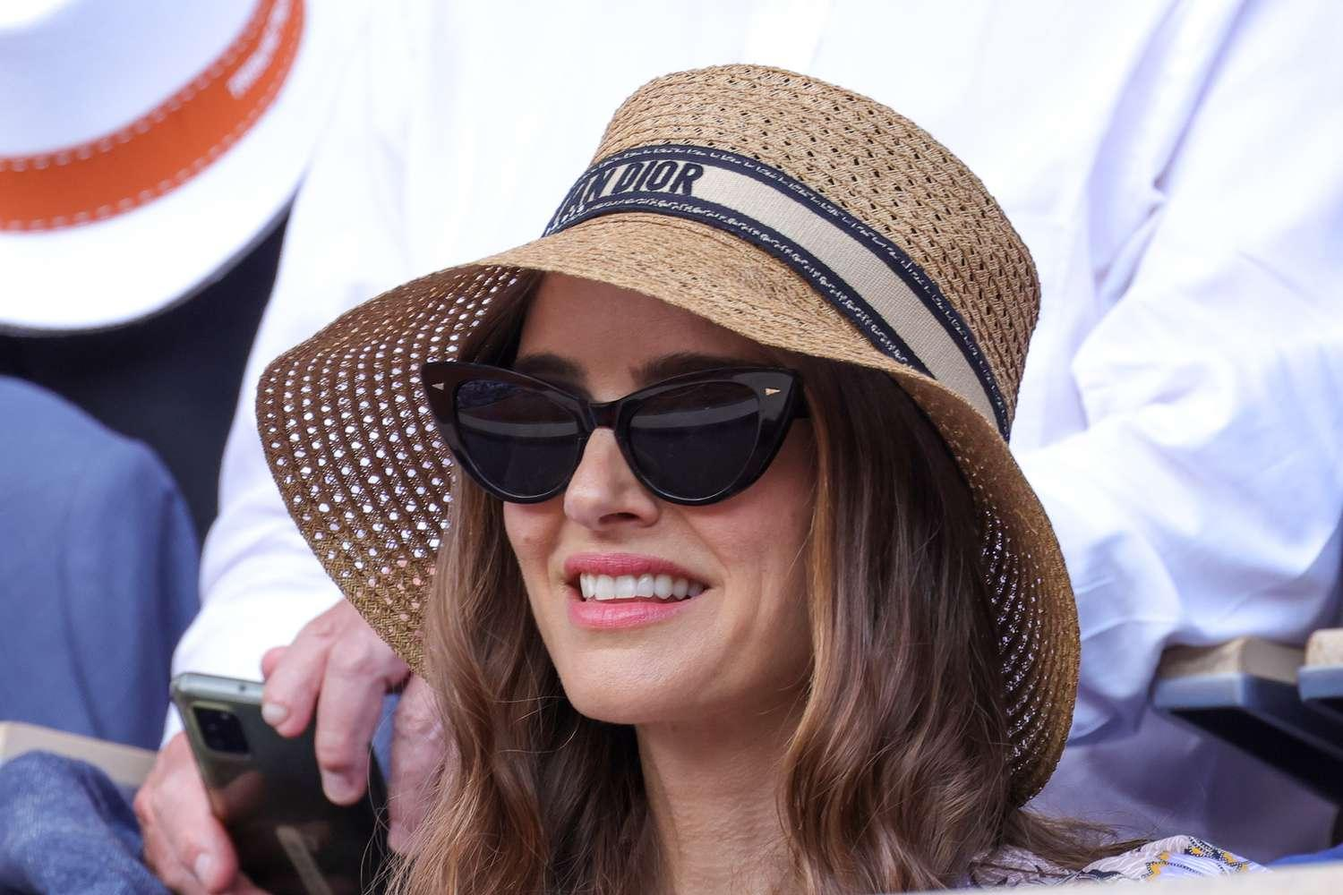cap: (206, 29, 1134, 854)
sunglasses: (432, 349, 792, 528)
